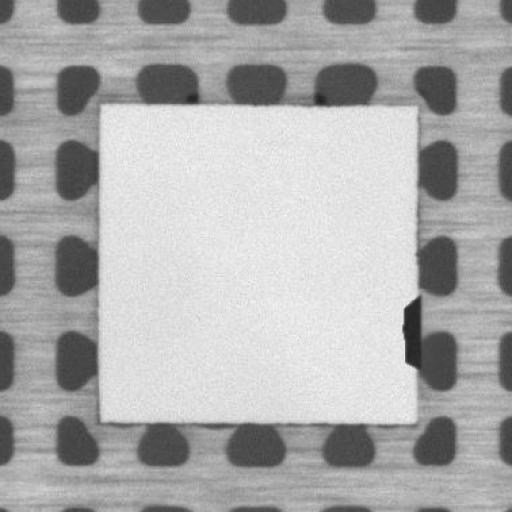DIE_BROKEN: (396, 295, 421, 370)
